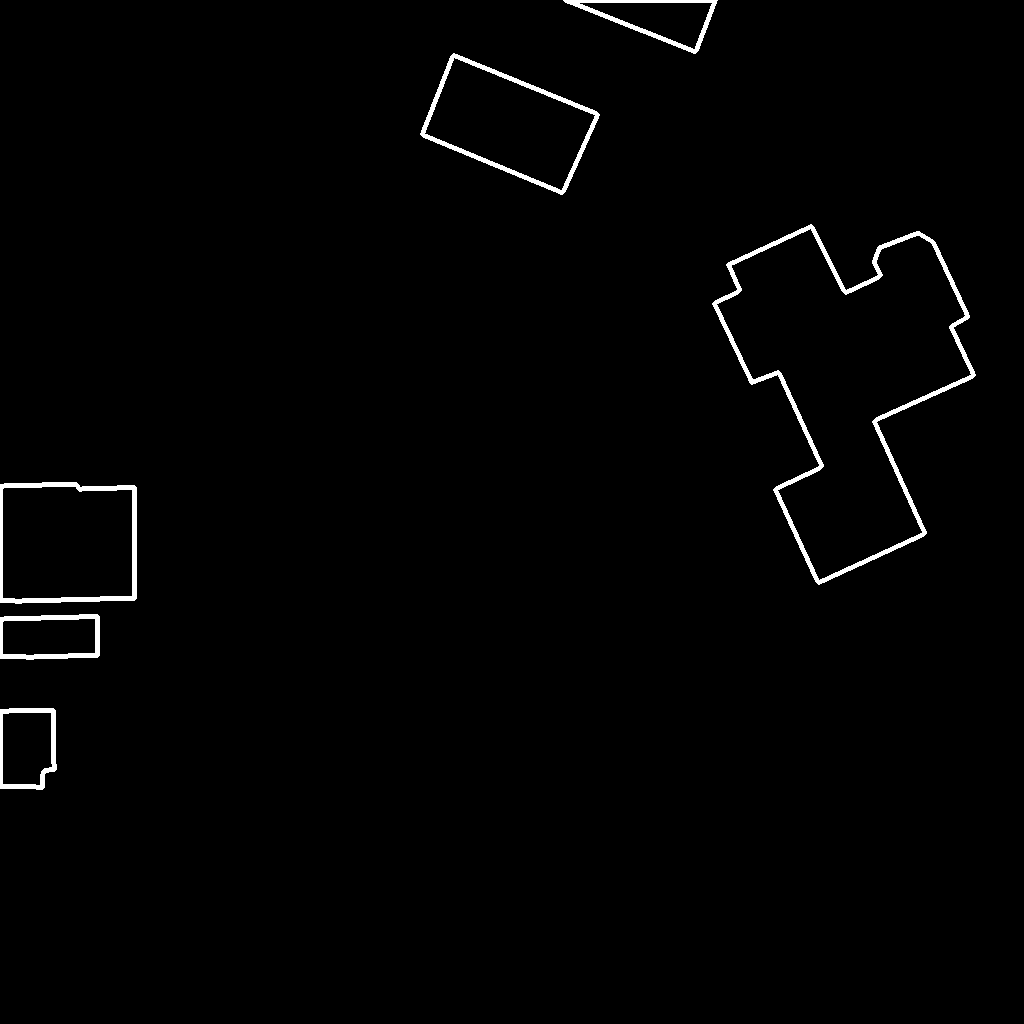building: (714, 226, 975, 584), (422, 55, 599, 194), (0, 484, 136, 602), (564, 0, 717, 53), (0, 710, 55, 788), (0, 616, 99, 658)
